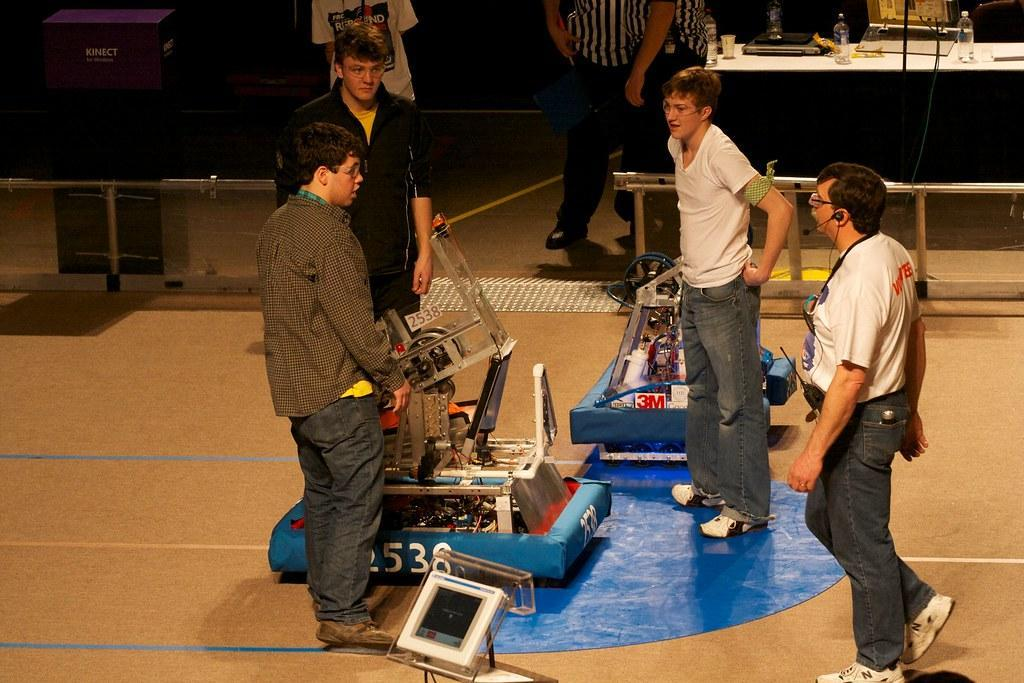robot: (250, 172, 622, 599), (554, 172, 810, 469)
